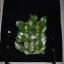leaf: (36, 37, 47, 49), (26, 16, 34, 32), (14, 41, 26, 50), (38, 19, 46, 31), (38, 16, 48, 25), (26, 44, 35, 53), (18, 22, 26, 32), (18, 31, 26, 41), (26, 36, 37, 42), (16, 20, 26, 26), (38, 32, 46, 38), (38, 45, 46, 50), (37, 49, 45, 54), (27, 31, 35, 35), (33, 15, 37, 22), (30, 15, 32, 17)
